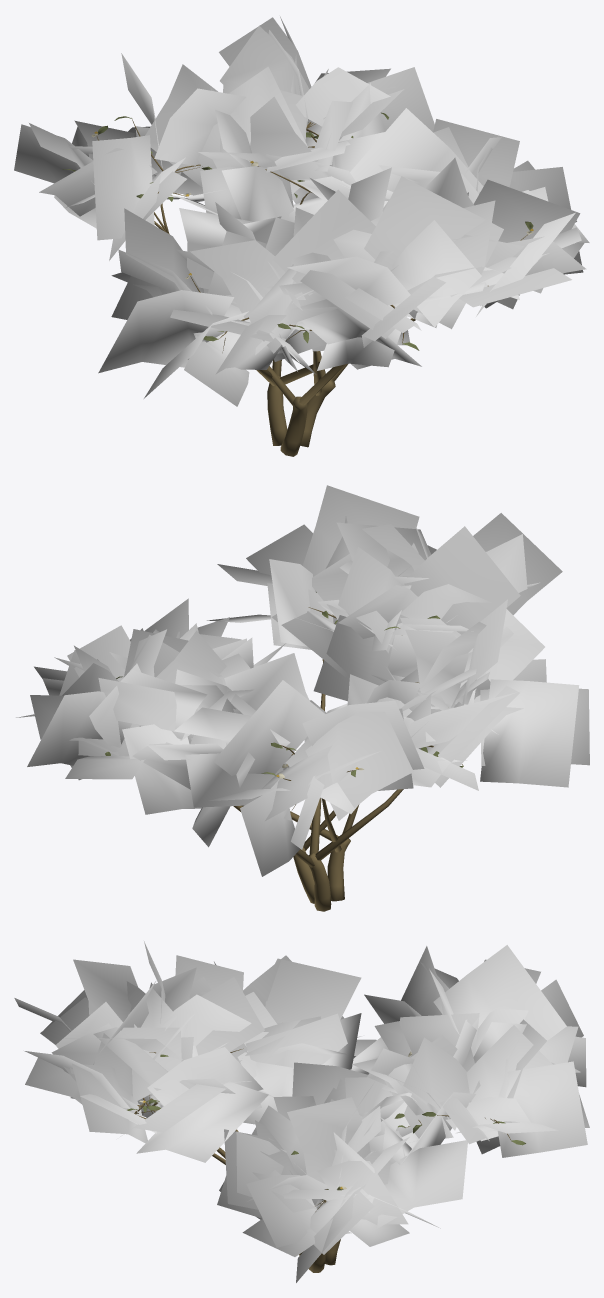
The model's file is V7_Ciste_1_Niveau1.fbx.
The picture shows the model from 3 angles, top to bottom: view 1: azimuth 30°, elevation 25°; view 2: azimuth 150°, elevation 25°; view 3: azimuth 270°, elevation 25°; orthographic projection. The views are drawn at different scales.
Parts seen in each view (by area): view 1: V7_Ciste_1_Detail1; view 2: V7_Ciste_1_Detail1; view 3: V7_Ciste_1_Detail1.
Part boxes in pixels (x1,y1,x2,y2): V7_Ciste_1_Detail1: [14, 16, 589, 456]; V7_Ciste_1_Detail1: [16, 485, 589, 911]; V7_Ciste_1_Detail1: [14, 941, 589, 1282].
Bounding box in the file's own units: 182 × 116 × 199.
